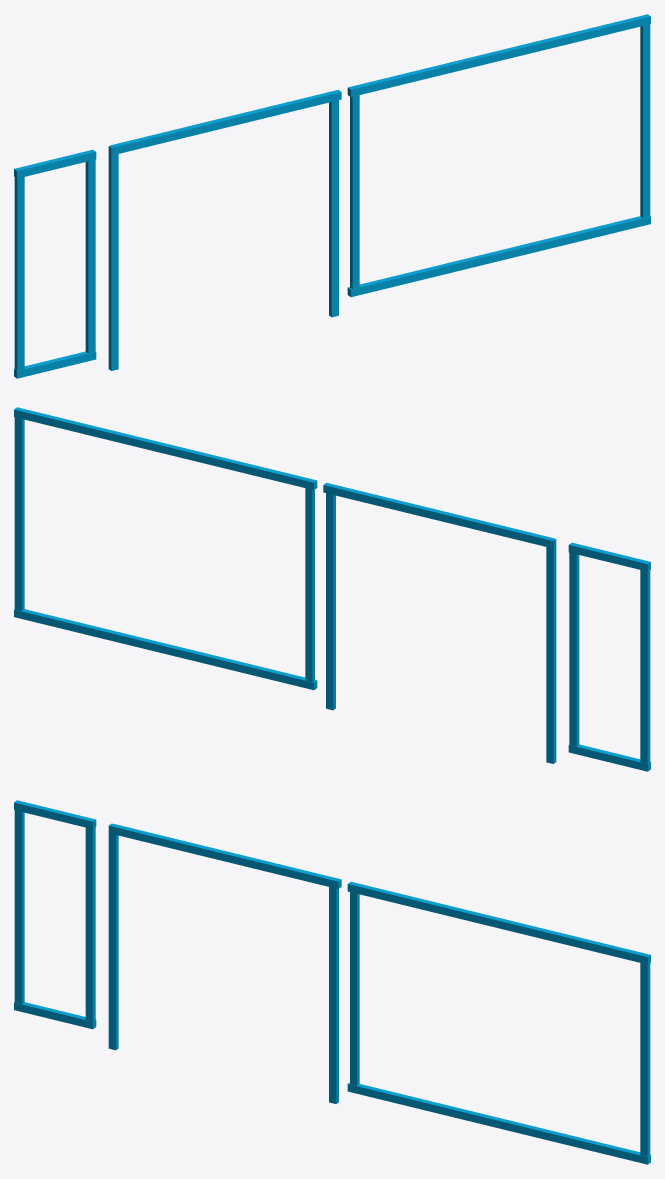
The model's file is Warehouse_03_Int_A_Wds_01.fbx.
The picture shows the model from 3 angles, top to bottom: view 1: azimuth 30°, elevation 25°; view 2: azimuth 150°, elevation 25°; view 3: azimuth 330°, elevation 25°; orthographic projection.
Parts seen in each view (by area): view 1: Warehouse_03_Int_A_Wds_01; view 2: Warehouse_03_Int_A_Wds_01; view 3: Warehouse_03_Int_A_Wds_01.
Part boxes in pixels (<box>): Warehouse_03_Int_A_Wds_01: <box>14,14,650,378</box>; Warehouse_03_Int_A_Wds_01: <box>14,407,650,771</box>; Warehouse_03_Int_A_Wds_01: <box>14,800,650,1164</box>.
Size of the model in its own units: 1081 by 364 by 9.28.
